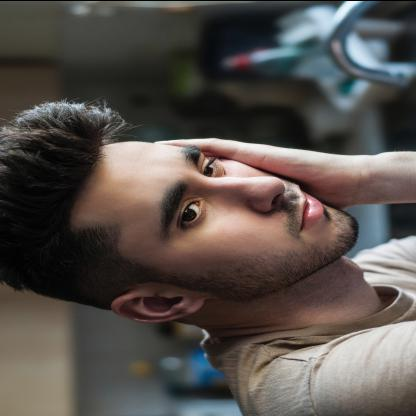Eye: (171, 194, 207, 230), (198, 152, 226, 176)
Mouth: (294, 186, 329, 230)
Nose: (208, 174, 286, 214)
